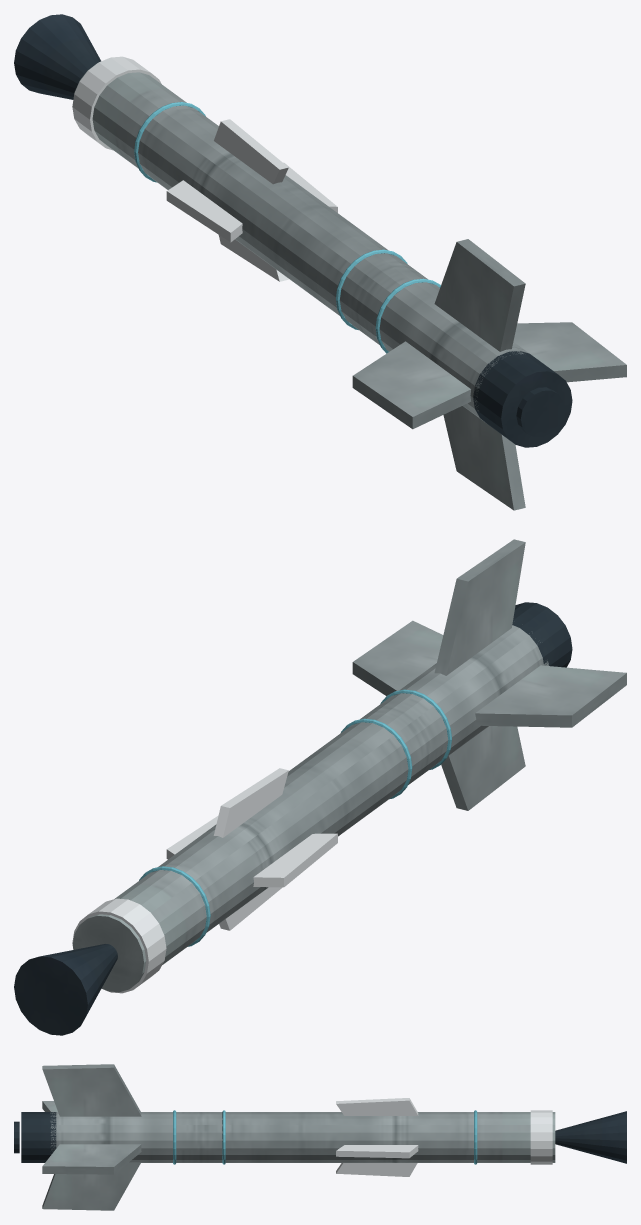
The model's file is razor9-missile-hd.glb.
3 renders of one model, top to bottom at view 1: azimuth 30°, elevation 25°; view 2: azimuth 150°, elevation 25°; view 3: azimuth 270°, elevation 25°, orthographic. The views are drawn at different scales.
Visible parts, largest first — view 1: RAZOR-9 motor casing, Rear cruciform fin 3, Rear cruciform fin 2, Motor nozzle, RAZOR-9 ceramic IR seeker, Rear cruciform fin 1, Rear cruciform fin 0, Seeker collar, Forward canard 3, Forward canard 2, Nozzle throat, Forward canard 1; view 2: RAZOR-9 motor casing, Rear cruciform fin 3, RAZOR-9 ceramic IR seeker, Rear cruciform fin 2, Rear cruciform fin 1, Rear cruciform fin 0, Seeker collar, Motor nozzle, Forward canard 3, Forward canard 2, Forward canard 1; view 3: RAZOR-9 motor casing, Rear cruciform fin 3, Rear cruciform fin 1, Rear cruciform fin 0, RAZOR-9 ceramic IR seeker, Motor nozzle, Forward canard 3, Seeker collar, Forward canard 0, Forward canard 1.
Part boxes in pixels (box(x1,y1,x2,y2)): RAZOR-9 motor casing: box(74, 63, 529, 421); Rear cruciform fin 3: box(434, 239, 525, 351); Rear cruciform fin 2: box(352, 341, 470, 429); Motor nozzle: box(473, 351, 572, 447); RAZOR-9 ceramic IR seeker: box(14, 14, 100, 99); Rear cruciform fin 1: box(443, 406, 525, 510); Rear cruciform fin 0: box(513, 322, 626, 382); Seeker collar: box(72, 56, 161, 150); Forward canard 3: box(214, 119, 288, 184); Forward canard 2: box(166, 180, 242, 242); Nozzle throat: box(516, 387, 564, 436); Forward canard 1: box(218, 235, 288, 281); RAZOR-9 motor casing: box(72, 625, 548, 992); Rear cruciform fin 3: box(434, 539, 525, 675); RAZOR-9 ceramic IR seeker: box(14, 944, 117, 1035); Rear cruciform fin 2: box(475, 665, 626, 727); Rear cruciform fin 1: box(441, 726, 525, 810); Rear cruciform fin 0: box(352, 620, 443, 695); Seeker collar: box(72, 898, 166, 993); Motor nozzle: box(512, 602, 572, 667); Forward canard 3: box(213, 768, 288, 837); Forward canard 2: box(253, 833, 337, 887); Forward canard 1: box(219, 887, 282, 930); RAZOR-9 motor casing: box(50, 1112, 555, 1162); Rear cruciform fin 3: box(42, 1064, 141, 1116); Rear cruciform fin 1: box(42, 1163, 140, 1210); Rear cruciform fin 0: box(42, 1144, 141, 1174); RAZOR-9 ceramic IR seeker: box(555, 1111, 626, 1163); Motor nozzle: box(21, 1112, 56, 1162); Forward canard 3: box(336, 1098, 418, 1115); Seeker collar: box(530, 1110, 552, 1164); Forward canard 0: box(336, 1145, 418, 1158); Forward canard 1: box(336, 1163, 417, 1176).
Bounding box in the file's own units: 0.86 × 0.86 × 3.34.
6 materials, 4 textured.
